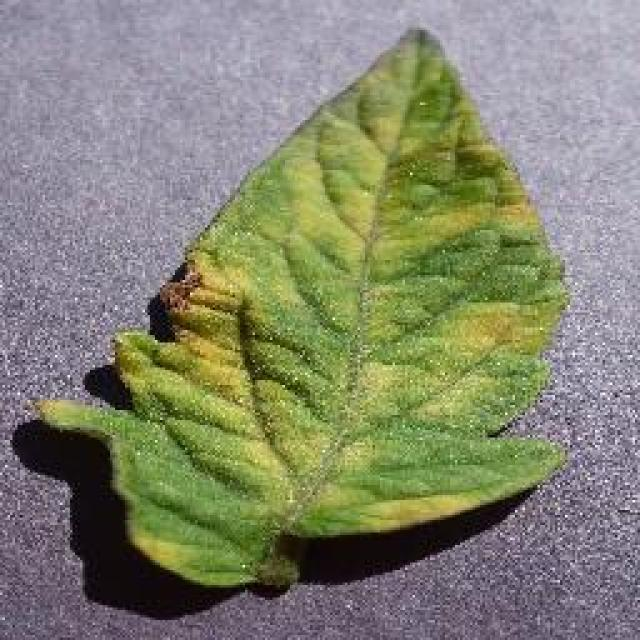Tomato mold leaf: (44, 25, 576, 593)
